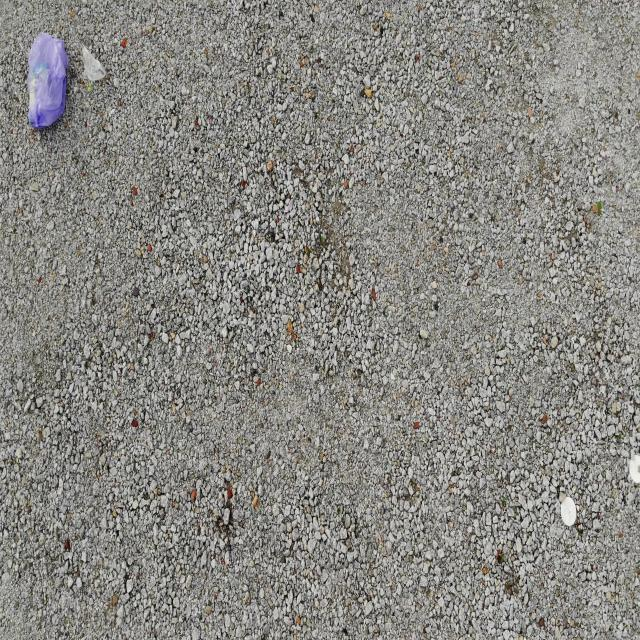rubbish: (26, 29, 64, 129), (81, 44, 106, 81)
